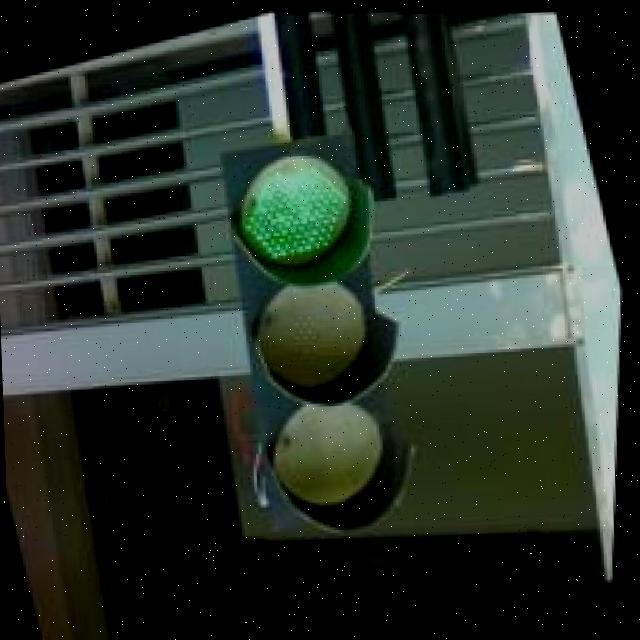green_light: (162, 109, 470, 556)
